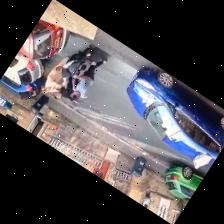person: (56, 44, 95, 86), (71, 57, 107, 100), (42, 56, 69, 93), (55, 76, 73, 100)
